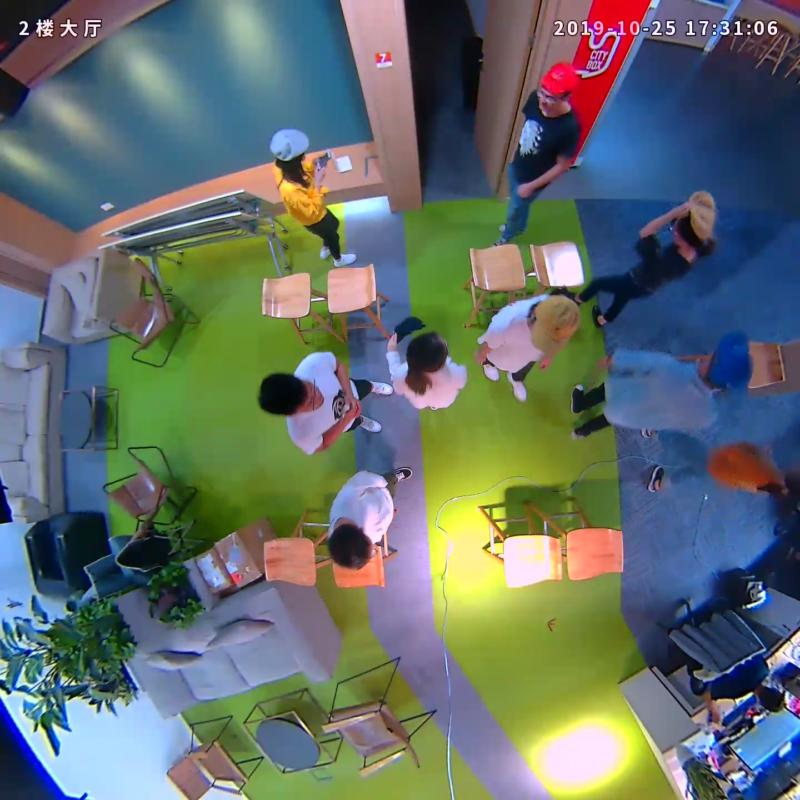head: (528, 293, 580, 356), (702, 329, 754, 388), (257, 371, 324, 415), (670, 190, 717, 250), (326, 522, 372, 570), (537, 61, 579, 110), (406, 330, 448, 375), (270, 128, 311, 169)
